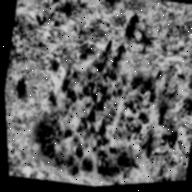boar: (119, 9, 141, 36), (113, 42, 131, 67)
